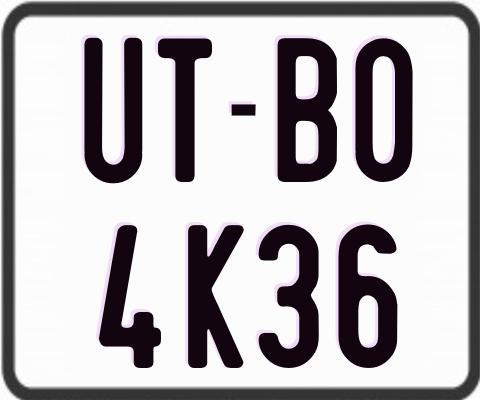0: (354, 38, 414, 185)
3: (258, 222, 318, 367)
4: (96, 222, 161, 365)
6: (336, 224, 397, 372)
B: (275, 35, 338, 180)
K: (188, 222, 250, 365)
T: (155, 35, 210, 179)
U: (81, 35, 142, 185)
